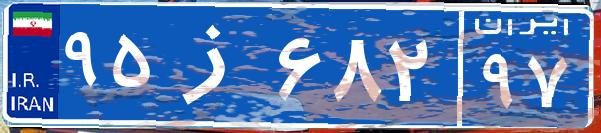2: (385, 28, 445, 110)
5: (110, 28, 158, 105)
6: (273, 28, 330, 110)
7: (525, 38, 570, 115)
8: (330, 28, 385, 110)
9: (57, 26, 110, 107), (475, 38, 525, 113)
ز: (158, 15, 273, 115)
